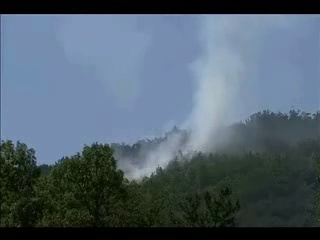smoke: (176, 15, 272, 162), (113, 125, 178, 183)
